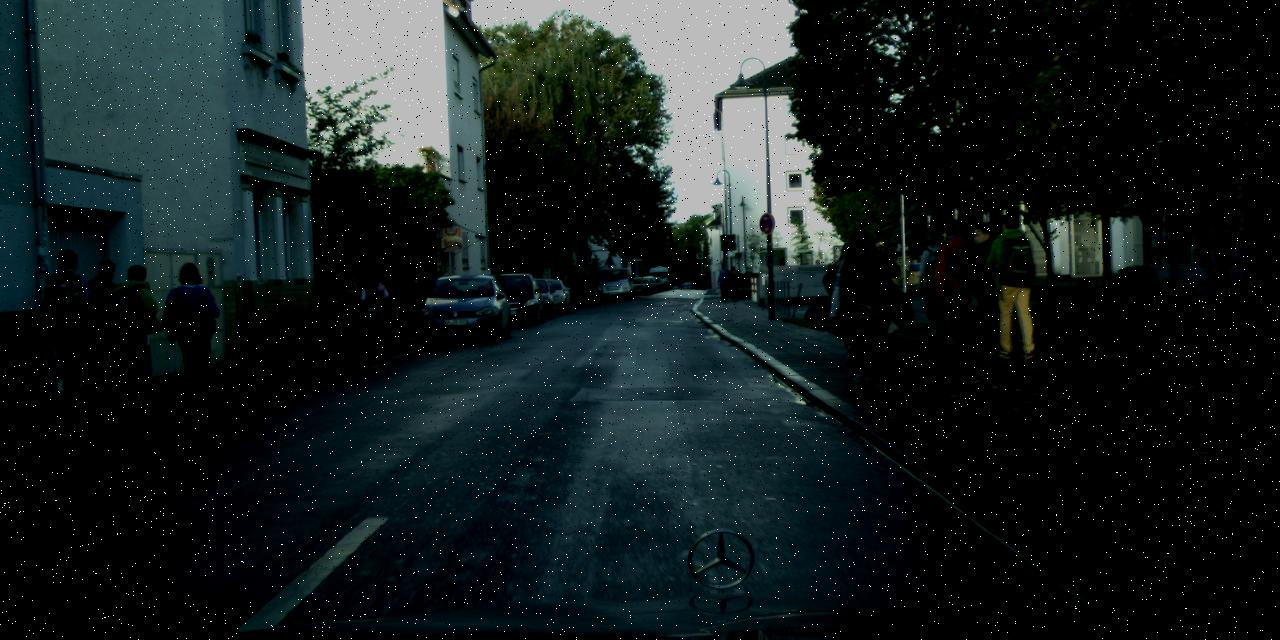ped: (831, 229, 900, 396), (39, 248, 102, 402), (829, 230, 890, 379), (984, 214, 1042, 358), (162, 261, 220, 401), (106, 264, 162, 400), (73, 260, 128, 398), (962, 222, 1016, 352), (824, 242, 876, 367), (931, 220, 982, 346), (912, 230, 958, 340), (358, 271, 388, 348), (333, 272, 363, 348), (403, 274, 427, 332), (428, 271, 450, 325), (716, 265, 730, 299), (727, 266, 741, 300), (723, 269, 735, 301)
